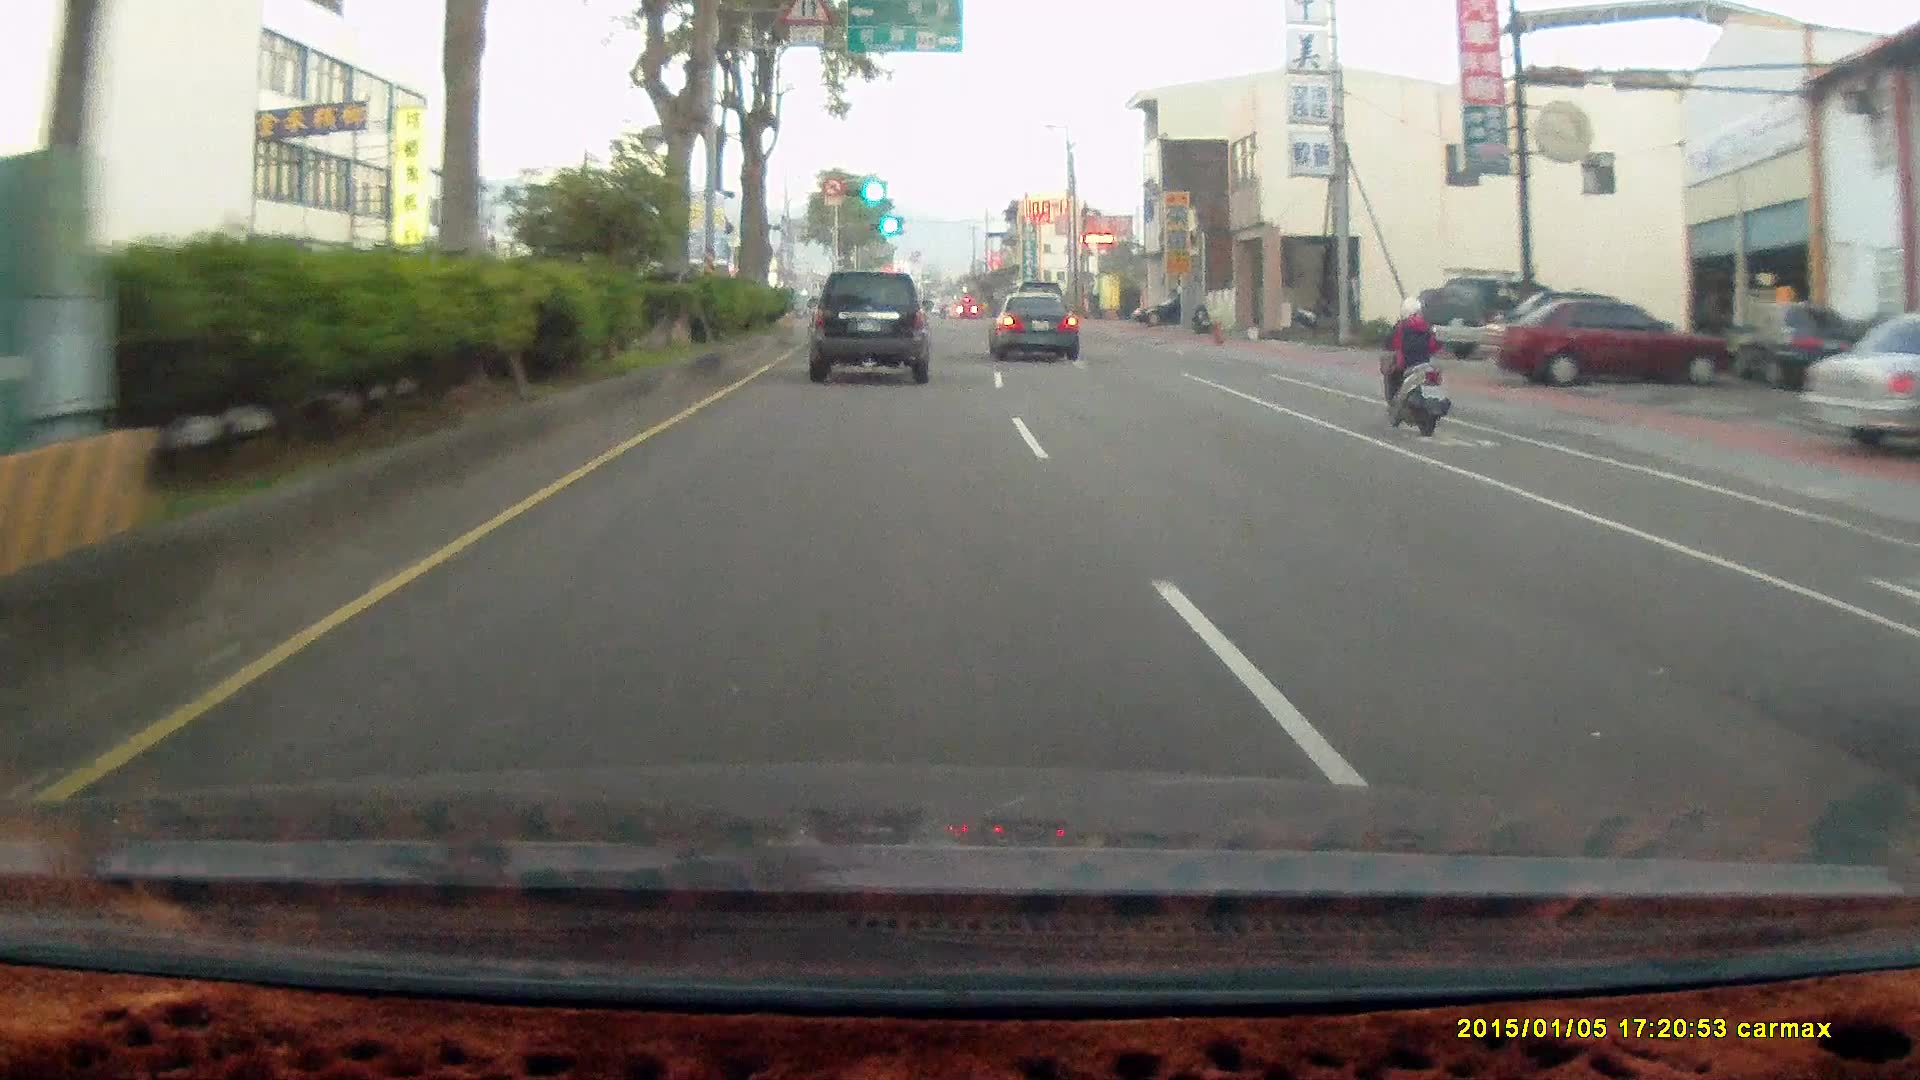rider: (1363, 284, 1464, 447), (1374, 291, 1449, 432)
vehicle: (1478, 296, 1726, 386), (1492, 297, 1719, 392), (1797, 309, 1920, 452), (810, 272, 934, 385), (809, 270, 932, 383), (1430, 273, 1572, 363), (1431, 276, 1573, 360), (1727, 303, 1858, 387), (986, 289, 1078, 360), (989, 294, 1081, 364), (1130, 294, 1209, 326)
